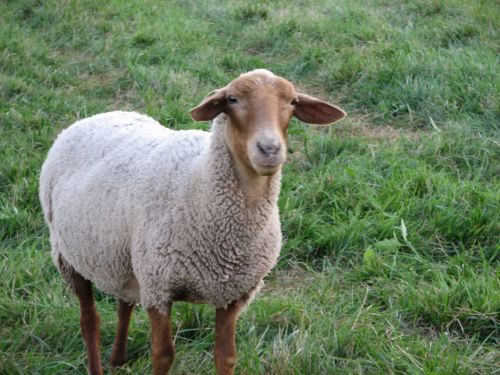koyun: (39, 71, 347, 374)
